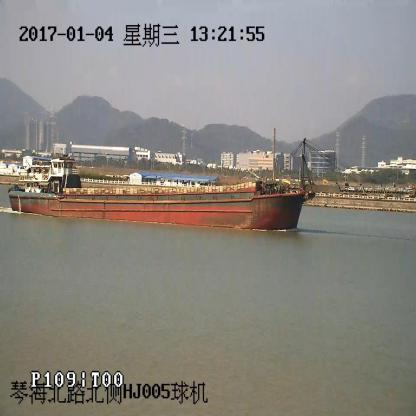Bulk Carrier: (9, 140, 383, 230)
